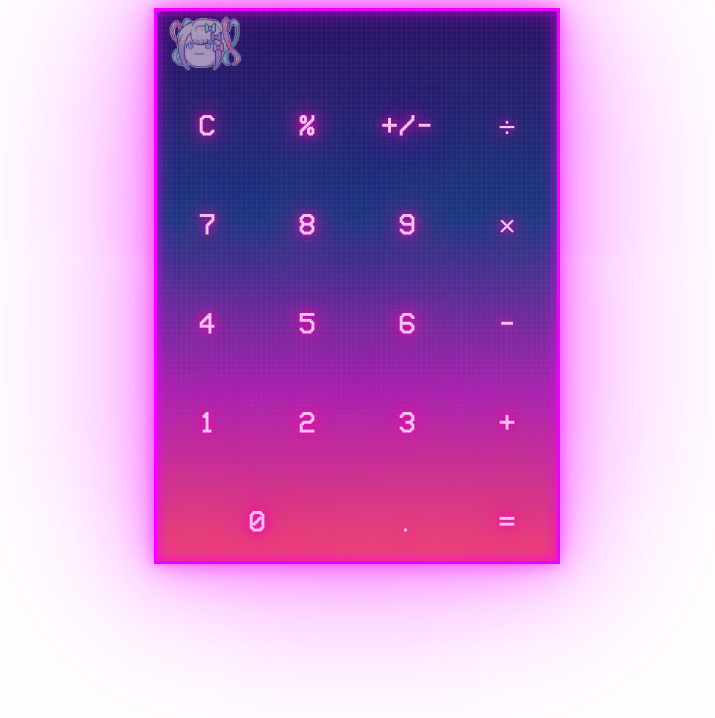
it: Testing component calculator › Testing clear key
What coordinates should you click on to do the following:
click the element with test id "oneKey-test"
I would click on:
 (207, 421)
Its box is [198,408,216,434].
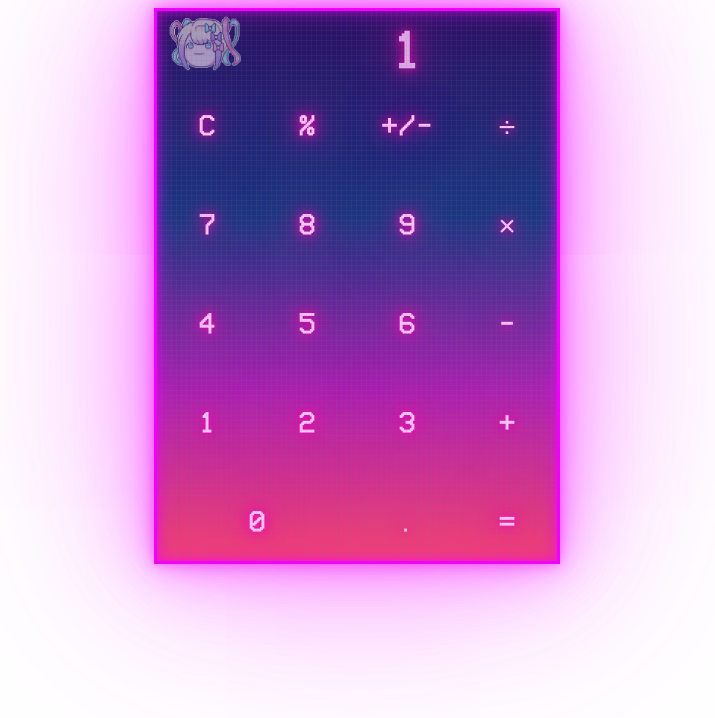
Check: the text with test id "display-test" reads "1", box [391,23,423,71]
What coordinates should you click on to do the following:
click the element with test id "clear-test"
I would click on:
 (207, 124)
Its box is [198,111,216,137].
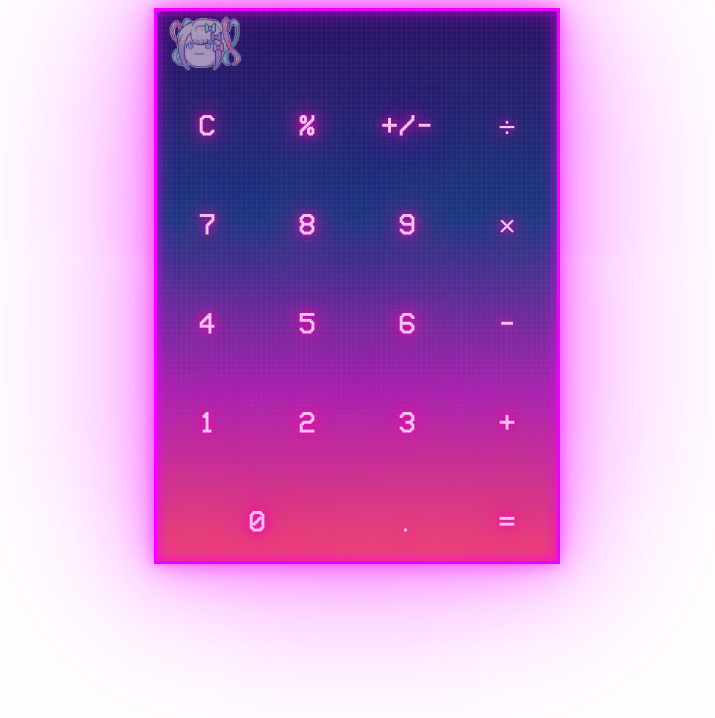
Check: the element with test id "display-test" is empty, box [157,11,560,90]
